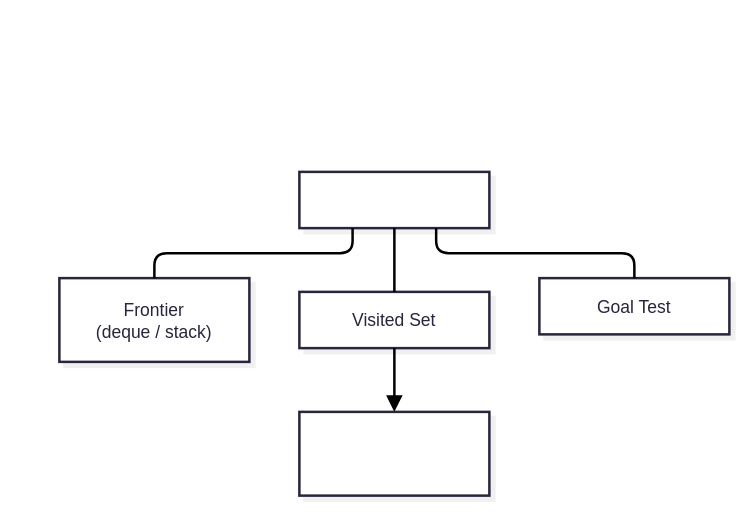
This 756x523 diagram has some shape labels left out. The shapes that lost their labels are listed below. From the top down, each one's centre as x and y in pixels, then its label:
pixel 396 202: SEARCH ENGINE
pixel 396 455: Node Counter & Timer
